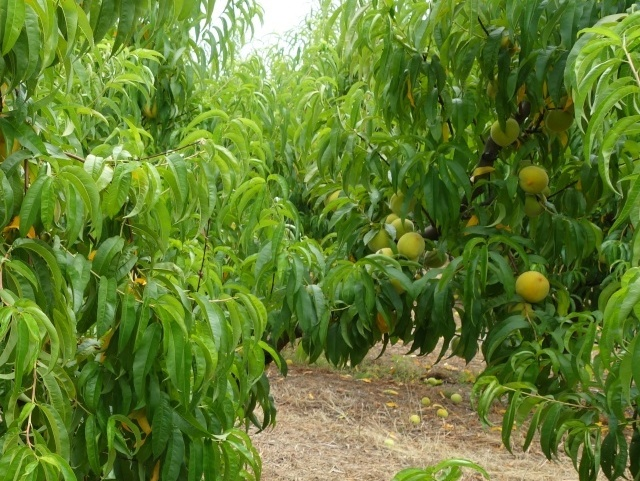peach: (512, 266, 554, 307), (515, 162, 551, 198), (488, 115, 523, 152), (387, 188, 419, 220), (395, 230, 426, 262), (387, 216, 418, 245), (521, 188, 550, 219), (543, 106, 573, 134), (367, 226, 393, 255), (449, 335, 472, 360), (375, 244, 401, 263)
